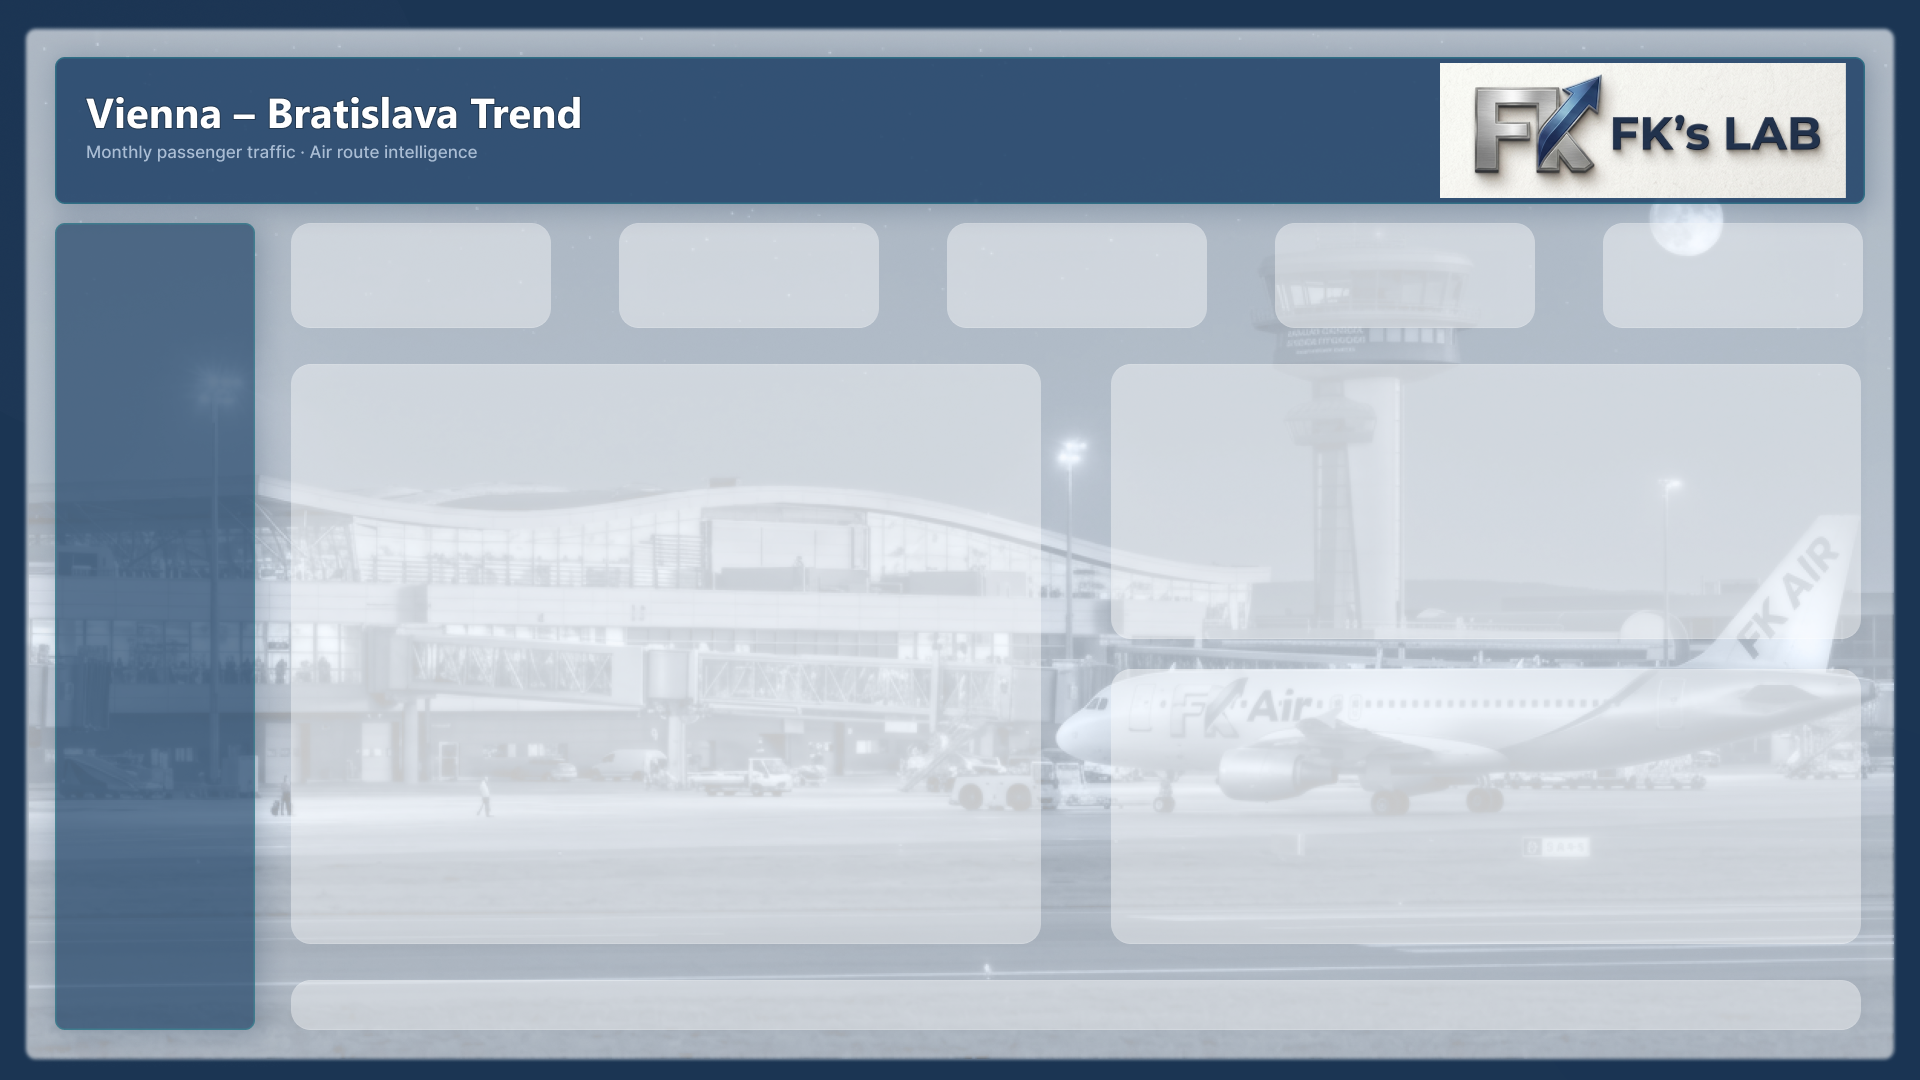

This screenshot's page, from the dashboard's own definition file:
{"tool":"powerbi","page":{"name":"Page 1","canvas":[1920,1080],"ordinal":1},"visuals":[{"type":"cardVisual","title":"Vienna","fields":{"Data":["monthly_traffic.VIE Total Pass"]},"box":[51.4,201.1,281.2,338.6],"z":0},{"type":"cardVisual","title":"Bratislava","fields":{"Data":["monthly_traffic.BTS Total Pass"]},"box":[467.1,201.1,237.4,338.6],"z":1000},{"type":"cardVisual","fields":{"Data":["monthly_traffic.Total passengers"]},"box":[907.1,201.1,409.7,288.8],"z":2000},{"type":"clusteredColumnChart","fields":{"Category":["monthly_traffic.Month Name"],"Series":["monthly_traffic.airport_code"],"Y":["Sum(monthly_traffic.yoy_change)"]},"box":[624.4,613.8,710,384.3],"z":3000},{"type":"lineChart","fields":{"Category":["monthly_traffic.Quarter"],"Series":["monthly_traffic.airport_code"],"Y":["Sum(monthly_traffic.yoy_change)"]},"box":[51.4,613.8,534.3,384.3],"z":4000},{"type":"actionButton","box":[1485.7,268.6,268.6,102.9],"z":5000},{"type":"slicer","fields":{"Values":["monthly_traffic.Year.1"]},"box":[1345.7,490,470,100],"z":6000},{"type":"clusteredColumnChart","fields":{"Category":["monthly_traffic.Month Name"],"Series":["monthly_traffic.airport_code"],"Y":["monthly_traffic.Total passengers","select","select2"]},"box":[1381.4,614.3,487.1,384.3],"z":7000}]}

Visuals, with their boxes in screenshot pixels (x1, y1, x2, y2), scaled from the page's 1920x1080 canvas onto the 1920x1080 screenshot:
"Vienna" cardVisual: BBox(51, 201, 333, 540)
"Bratislava" cardVisual: BBox(467, 201, 704, 540)
cardVisual - monthly_traffic.Total passengers: BBox(907, 201, 1317, 490)
clusteredColumnChart - monthly_traffic.Month Name x monthly_traffic.airport_code: BBox(624, 614, 1334, 998)
lineChart - monthly_traffic.Quarter x monthly_traffic.airport_code: BBox(51, 614, 586, 998)
actionButton: BBox(1486, 269, 1754, 372)
slicer - monthly_traffic.Year.1: BBox(1346, 490, 1816, 590)
clusteredColumnChart - monthly_traffic.Month Name x monthly_traffic.airport_code: BBox(1381, 614, 1868, 999)
